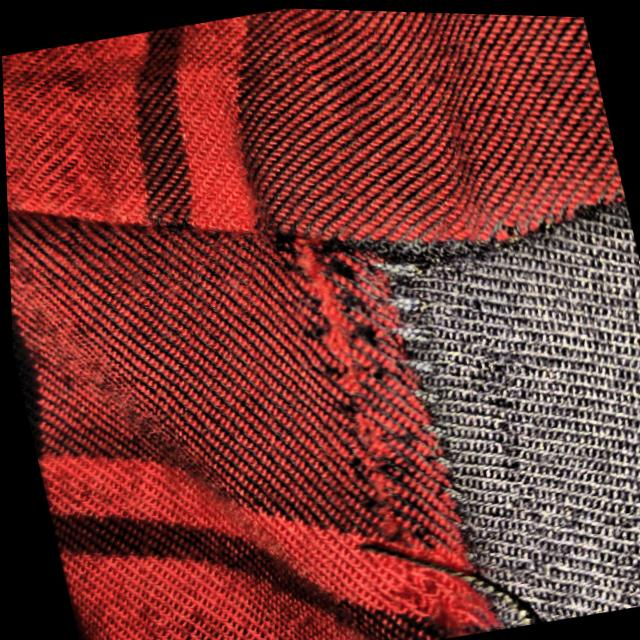Stitch: (273, 204, 524, 640)
